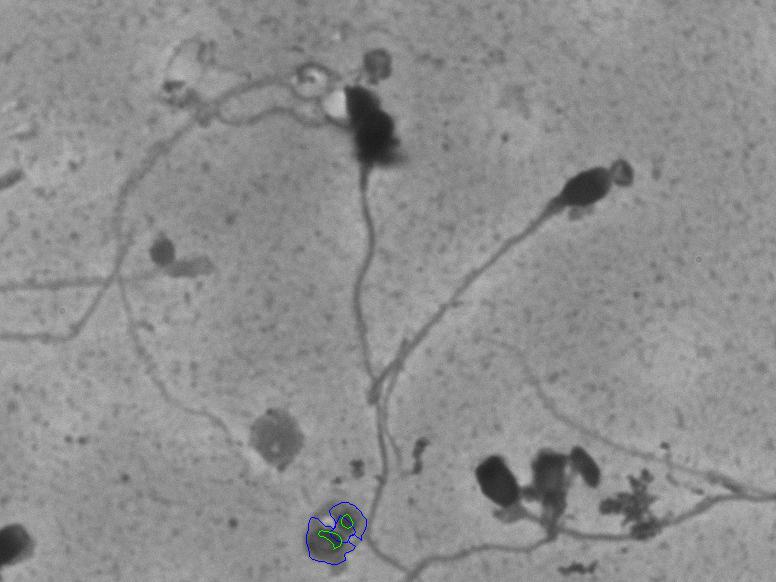Abnormal: (417, 156, 661, 423), (327, 94, 405, 510)
